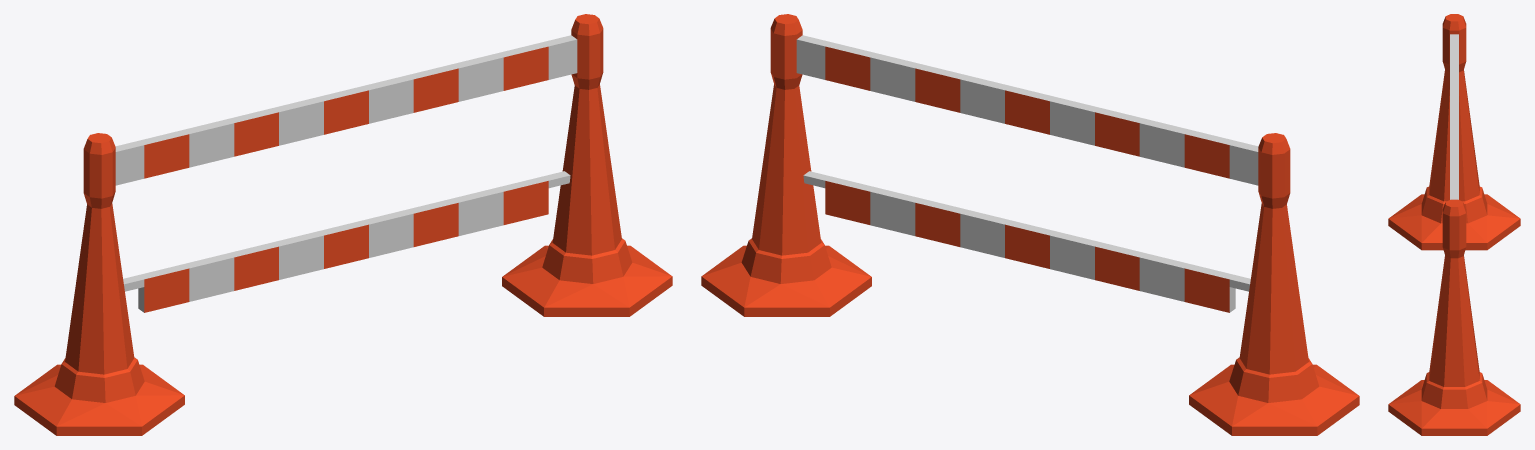
Rendered from Barrier1.fbx.
3 renders of one model, left to right at view 1: azimuth 30°, elevation 25°; view 2: azimuth 150°, elevation 25°; view 3: azimuth 270°, elevation 25°, orthographic. The views are drawn at different scales.
Visible parts, largest first — view 1: mesh; view 2: mesh; view 3: mesh.
Boxes of the visible parts, <box> form: mesh: <box>14,14,672,435</box>; mesh: <box>701,14,1359,435</box>; mesh: <box>1388,14,1520,435</box>.
Bounding box in the file's own units: 230 × 95.37 × 54.92.
